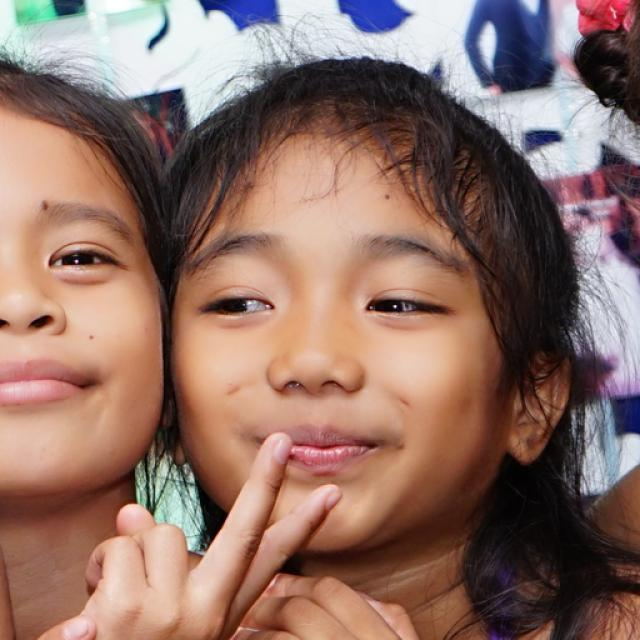happy: (170, 115, 512, 553), (2, 103, 164, 524)
